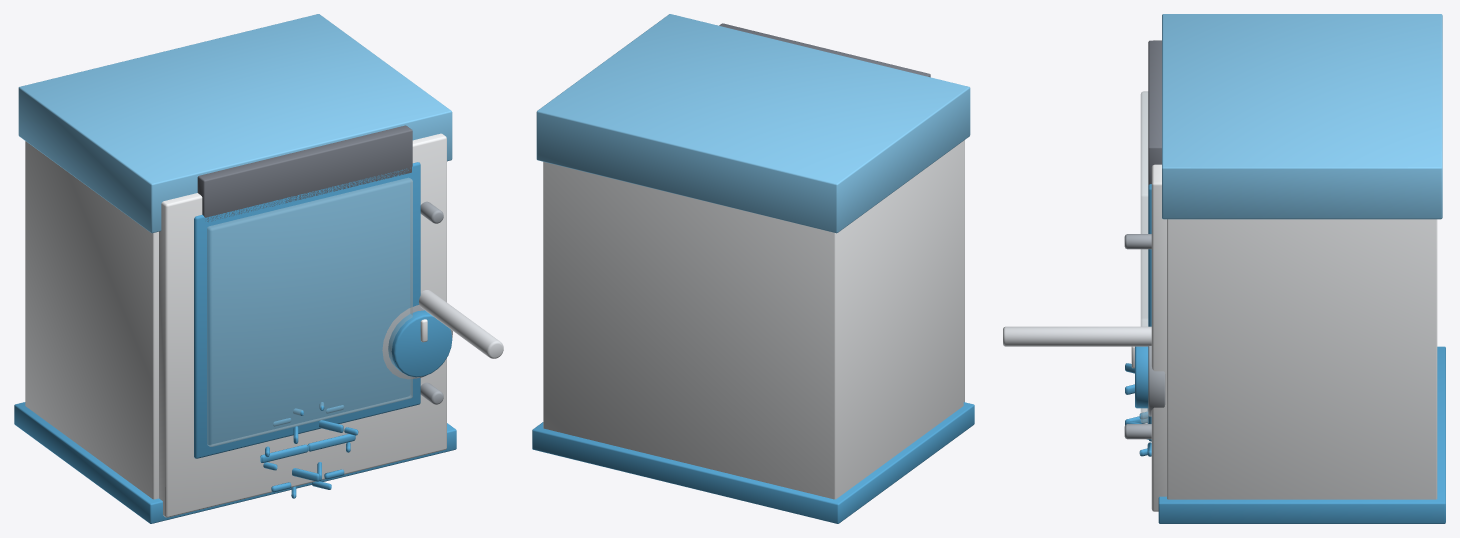
File: Freezer.glb
3 views of the same model, side by side, from view 1: azimuth 30°, elevation 25°; view 2: azimuth 150°, elevation 25°; view 3: azimuth 270°, elevation 25° (orthographic). The views are drawn at different scales.
Visible parts, largest first — view 1: shell, door, dial; view 2: shell, door; view 3: shell, door, dial.
Boxes of the visible parts, bbox=[...] form: shell: bbox=[14, 14, 456, 523]; door: bbox=[159, 133, 503, 517]; dial: bbox=[388, 310, 452, 377]; shell: bbox=[532, 14, 974, 523]; door: bbox=[963, 140, 964, 402]; shell: bbox=[1148, 14, 1445, 523]; door: bbox=[1003, 40, 1166, 511]; dial: bbox=[1131, 346, 1148, 408].
Bounding box in the file's own units: 2.2 × 2.34 × 2.62.
